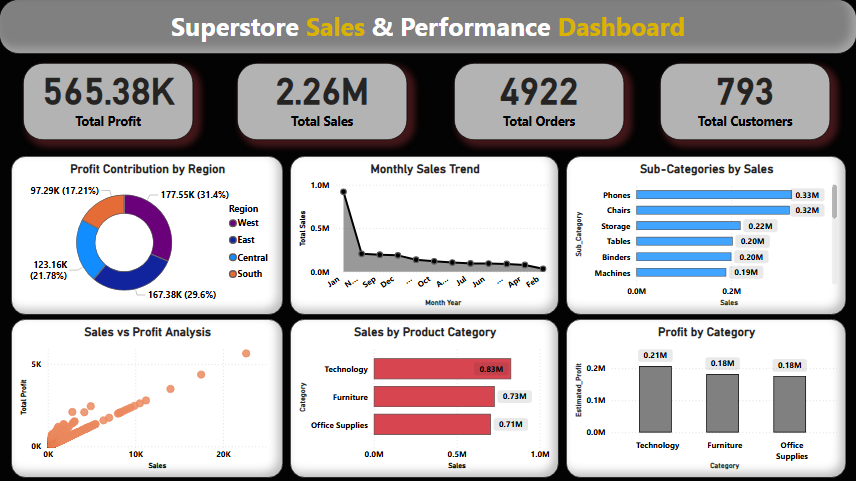

What the dashboard file says about the page in this screenshot:
{"tool":"powerbi","page":{"name":"Page 1","canvas":[1280,720],"ordinal":0},"visuals":[{"type":"textbox","box":[0,0,1280,82.1],"z":0},{"type":"card","fields":{"Values":["Sheet1.Total Customers"]},"box":[986.1,95.5,253.6,114.9],"z":1},{"type":"card","fields":{"Values":["Sheet1.Total Orders"]},"box":[678.8,95.5,253.6,114.9],"z":2},{"type":"card","fields":{"Values":["Sheet1.Total Sales"]},"box":[355.1,95.5,253.6,114.9],"z":3},{"type":"card","fields":{"Values":["Sheet1.Total Profit"]},"box":[35.8,95.5,253.6,114.9],"z":4},{"type":"clusteredBarChart","title":"Sales by Product Category","fields":{"Y":["Sum(Sheet1.Sales)"],"Category":["Sheet1.Category"]},"box":[434.1,477.4,401.3,237.2],"z":5},{"type":"clusteredColumnChart","title":"Profit by Category","fields":{"Category":["Sheet1.Category"],"Y":["Sum(Sheet1.Estimated_Profit)"]},"box":[845.9,477.4,417.7,237.2],"z":6},{"type":"lineChart","title":"Monthly Sales Trend","fields":{"Y":["Sheet1.Total Sales"],"Category":["Sheet1.Month Year"]},"box":[434.1,222.3,401.3,249.1],"z":7},{"type":"clusteredBarChart","title":"Sub-Categories by Sales","fields":{"Y":["Sum(Sheet1.Sales)"],"Category":["Sheet1.Sub_Category"]},"box":[845.9,222.3,417.7,249.1],"z":8},{"type":"donutChart","title":"Profit Contribution by Region","fields":{"Category":["Sheet1.Region"],"Y":["Sheet1.Total Profit"]},"box":[17.9,222.3,405.8,249.1],"z":9},{"type":"scatterChart","title":"Sales vs Profit Analysis","fields":{"Y":["Sheet1.Total Profit"],"X":["Sheet1.Sales"]},"box":[17.9,477.4,405.8,237.2],"z":10}]}

Visuals, with their boxes in screenshot pixels (x1, y1, x2, y2), scaled from the page's 1280x720 canvas onto the 856x481 screenshot:
textbox: x1=0, y1=0, x2=855, y2=55
card - Sheet1.Total Customers: x1=659, y1=64, x2=829, y2=141
card - Sheet1.Total Orders: x1=454, y1=64, x2=624, y2=141
card - Sheet1.Total Sales: x1=237, y1=64, x2=407, y2=141
card - Sheet1.Total Profit: x1=24, y1=64, x2=194, y2=141
"Sales by Product Category" clusteredBarChart: x1=290, y1=319, x2=559, y2=477
"Profit by Category" clusteredColumnChart: x1=566, y1=319, x2=845, y2=477
"Monthly Sales Trend" lineChart: x1=290, y1=149, x2=559, y2=315
"Sub-Categories by Sales" clusteredBarChart: x1=566, y1=149, x2=845, y2=315
"Profit Contribution by Region" donutChart: x1=12, y1=149, x2=283, y2=315
"Sales vs Profit Analysis" scatterChart: x1=12, y1=319, x2=283, y2=477
